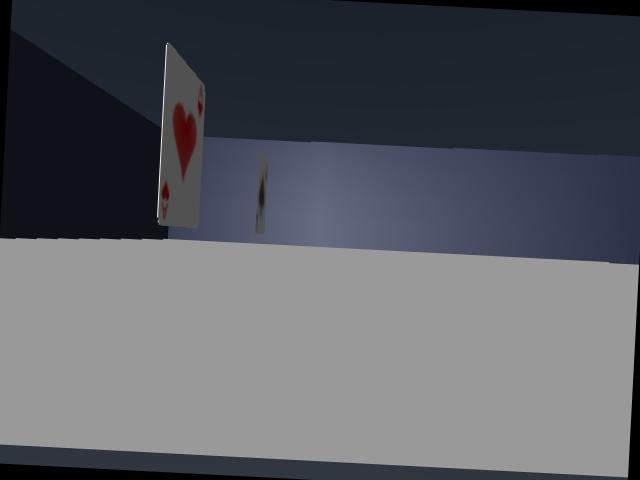club: (255, 157, 267, 233)
heart: (157, 44, 205, 227)
